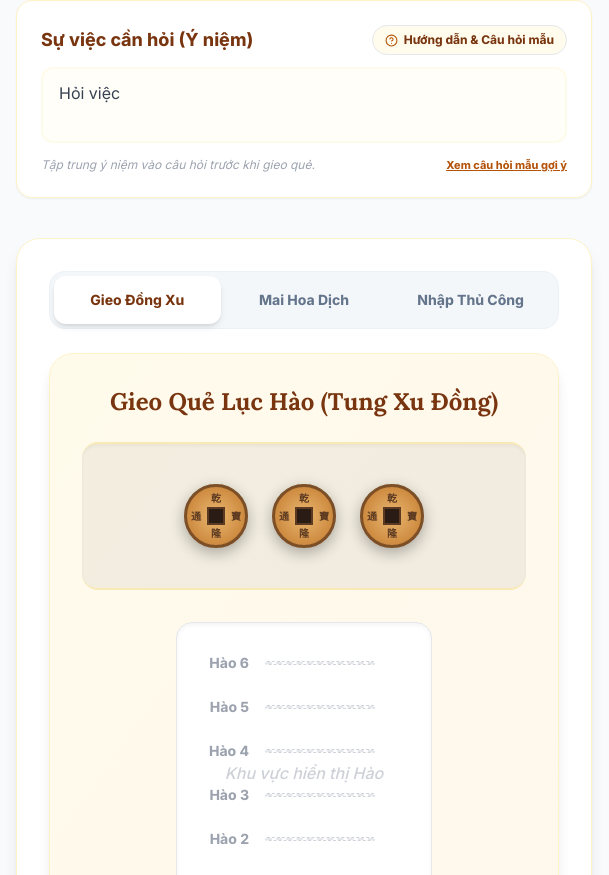
Scenario: IChingInput Component Flow Tests › Mai Hoa sub-methods: renders SIM, Biển Số, 3 Số and Seri Tiền tabs
Click the button "Mai Hoa Dịch". click: [304, 300]
box: [221,276,387,324]
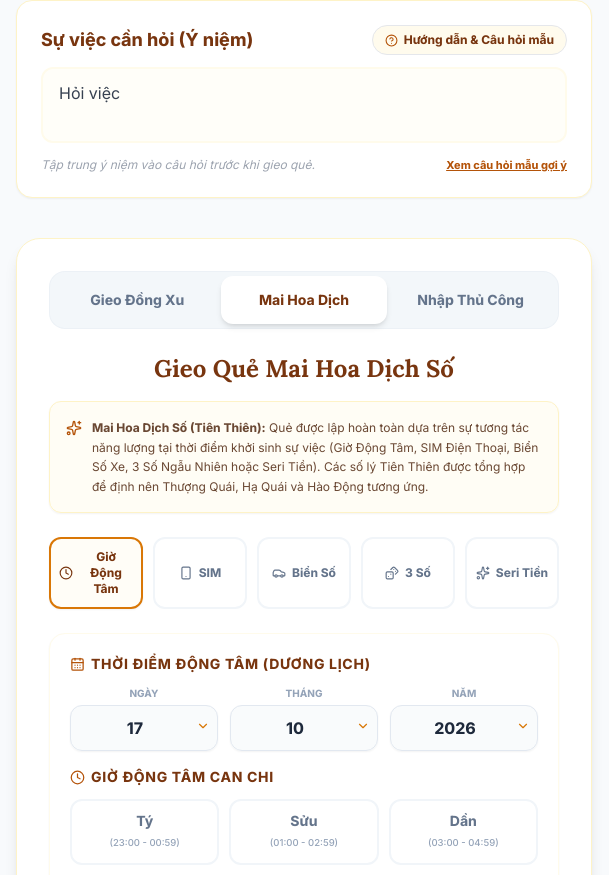
Expected: the text "Giờ Động Tâm" is shown, [90,549,122,596]
Expected: the text "SIM" is shown, [199,565,221,581]
Expected: the text "Biển Số" is shown, [292,565,336,581]
